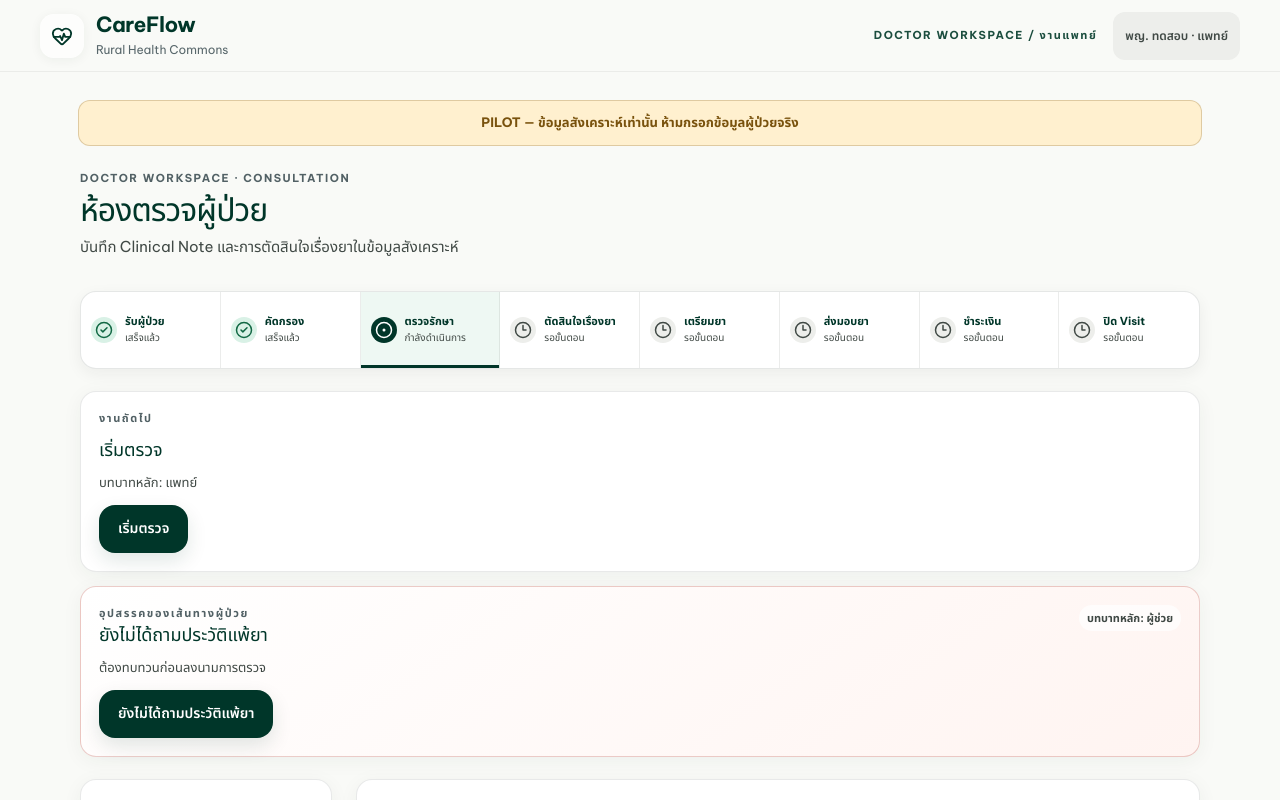
Test: Doctor consultation authoring › fails closed after a direct-route Start revision conflict while keeping Allergy recovery
Click the button "เริ่มตรวจ" at [144, 529], box [99,505,188,553]
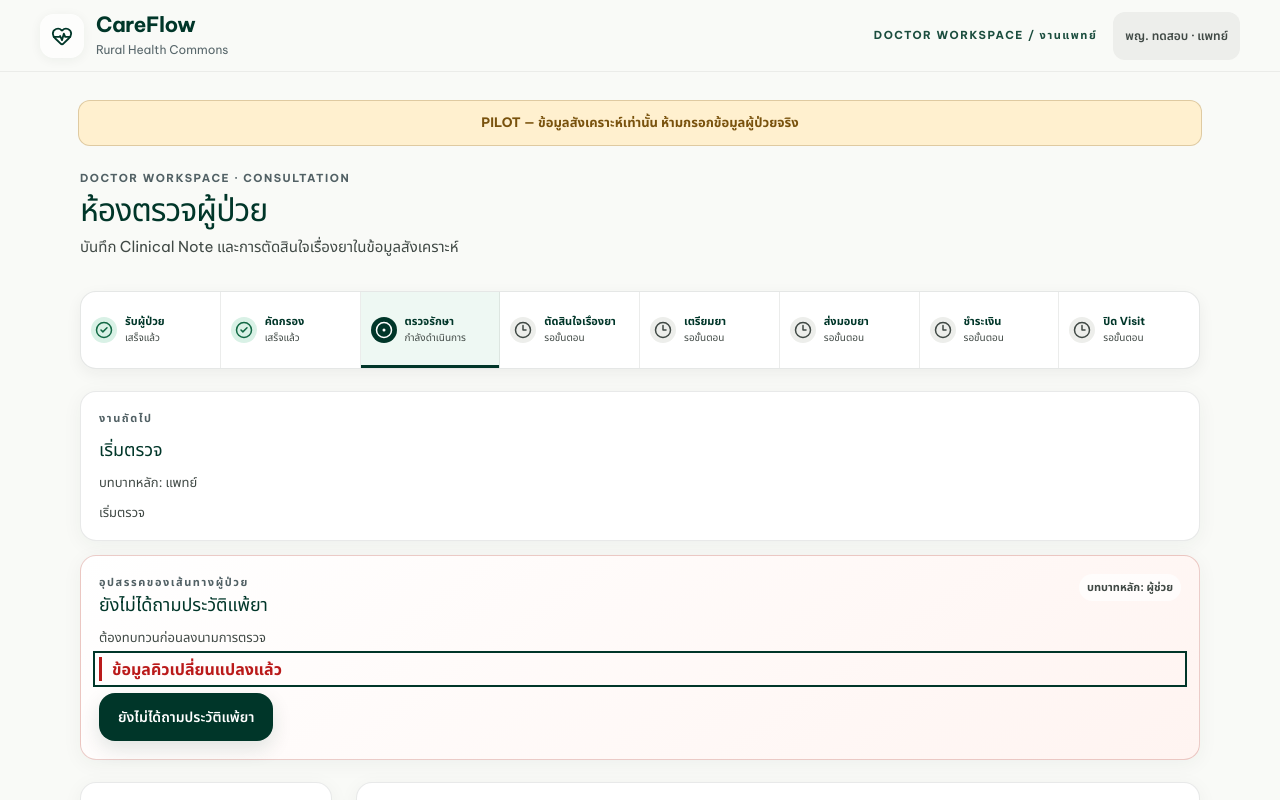
Expected: the button "ยังไม่ได้ถามประวัติแพ้ยา" is enabled, [99,693,273,741]
Expected: the text "ข้อมูลคิวเปลี่ยนแปลงแล้ว" is shown, [112,659,282,679]
